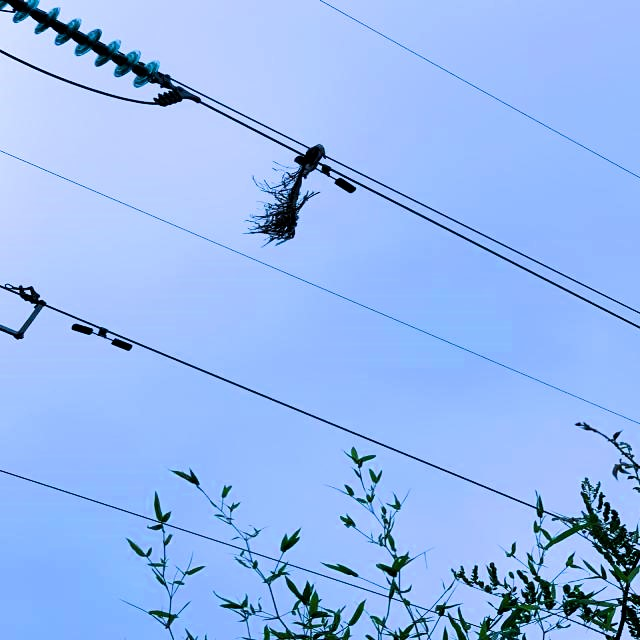wire foreign body: (249, 140, 328, 243)
